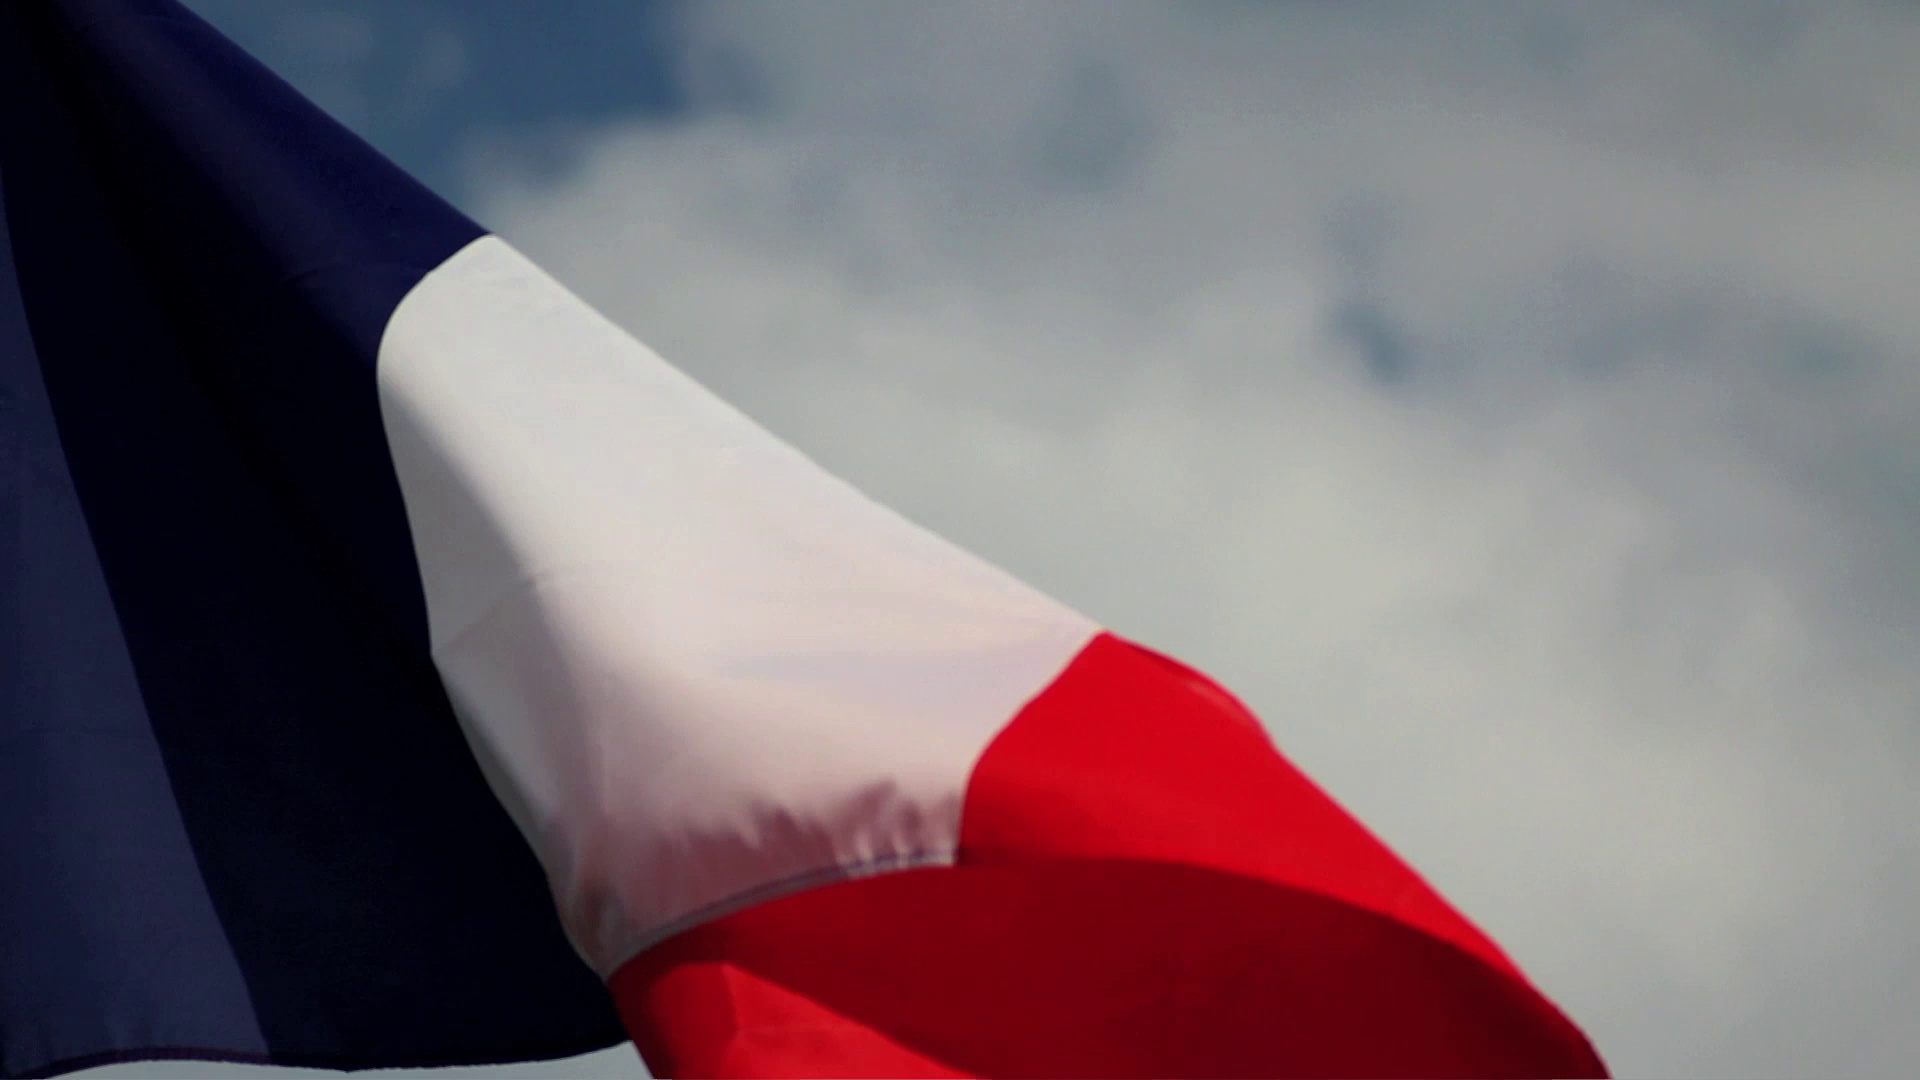French Flag: (1, 1, 1619, 1080)
